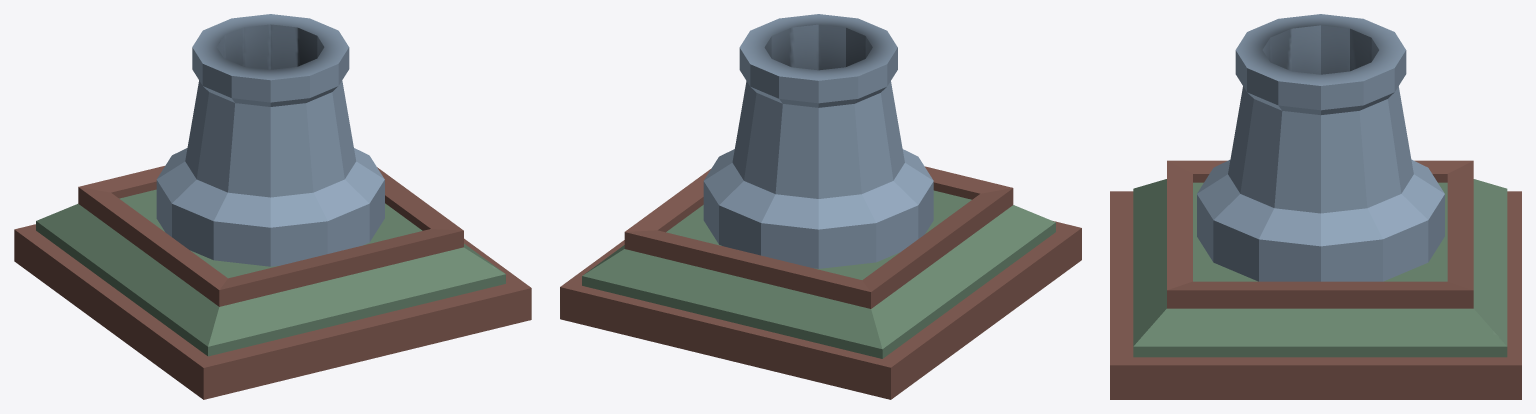
File: Torres mortier1.fbx
The picture shows the model from 3 angles, left to right: view 1: azimuth 30°, elevation 25°; view 2: azimuth 150°, elevation 25°; view 3: azimuth 270°, elevation 25°; orthographic projection. The views are drawn at different scales.
Visible parts, largest first — view 1: Tour 1; view 2: Tour 1; view 3: Tour 1.
Boxes of the visible parts, x1,y1,x2,y2 form: Tour 1: (14,14,531,399); Tour 1: (560,14,1081,399); Tour 1: (1110,14,1521,399).
Bounding box in the file's own units: 2.47 × 1.75 × 2.47.
